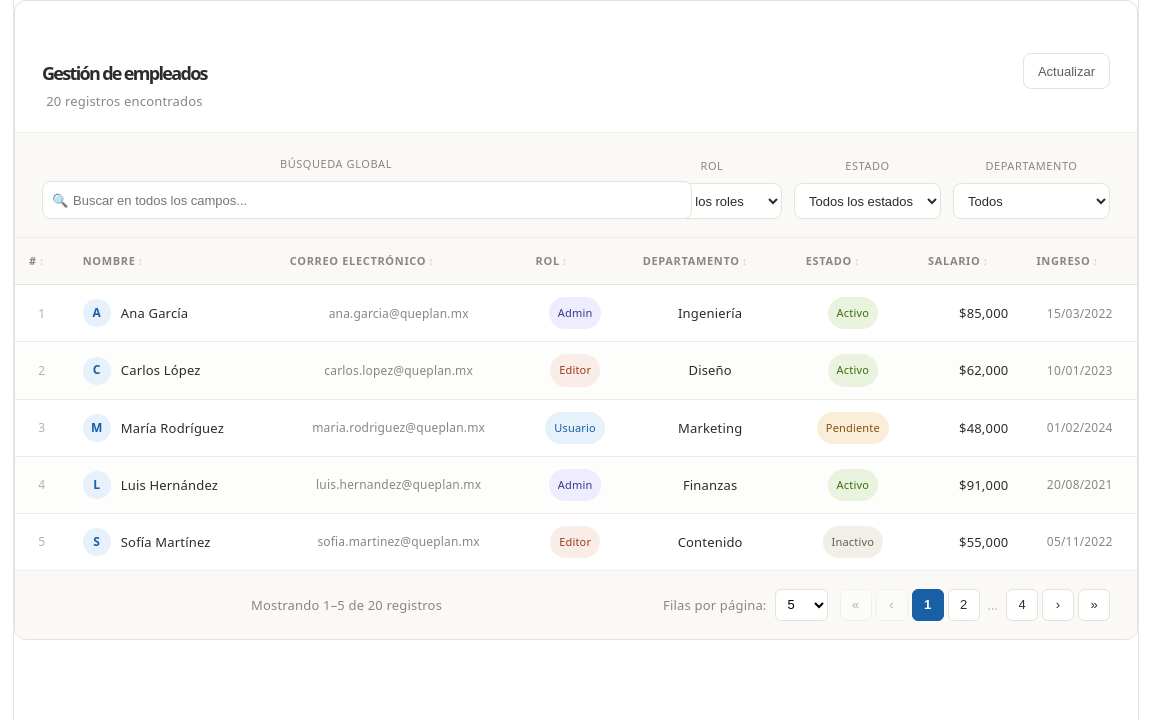
Scenario: UnifiedEmployeeTable — modo frontend › UnifiedEmployeeTable — modo backend › aplica búsqueda con debounce y dispara una nueva petición al backend mock
Expected: the text "20 registros encontrados" is shown, [42,88,207,114]
Step 1. Type "maría" into the field with placeholder "Buscar en todos los campos..." → (367, 200), box [42,181,692,219]
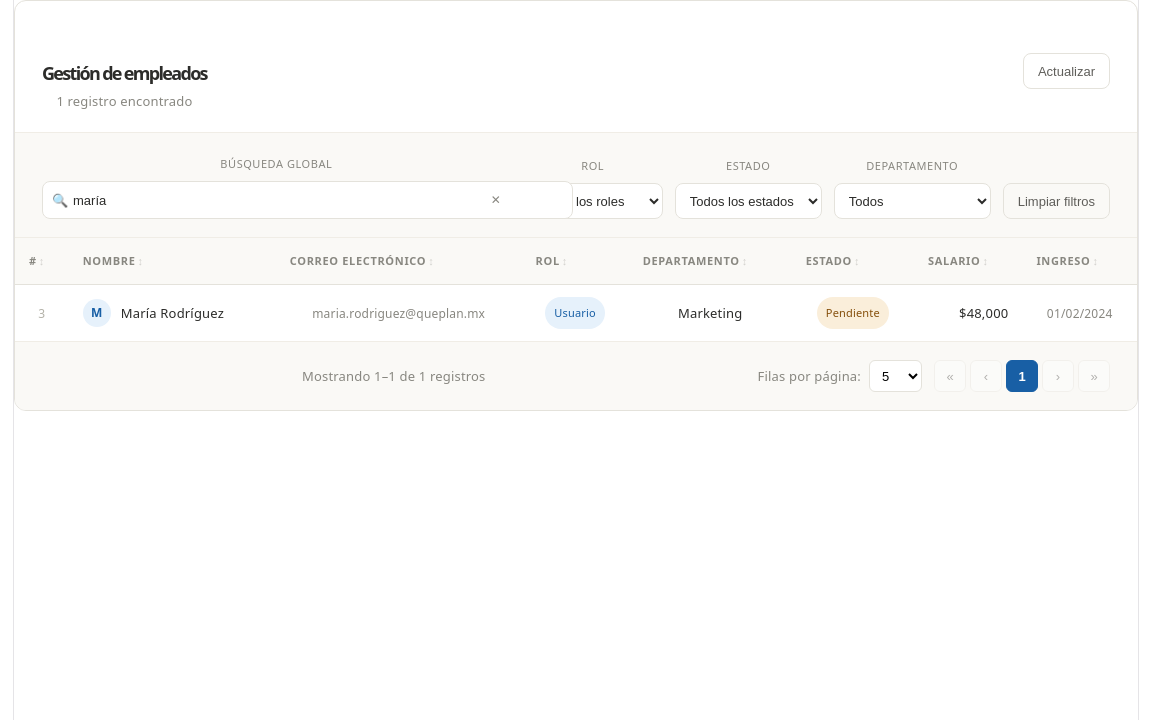
Result: the text "1 registro encontrado" is shown at [56,92,192,110]
Result: the text "María Rodríguez" is shown at [121,300,224,326]
